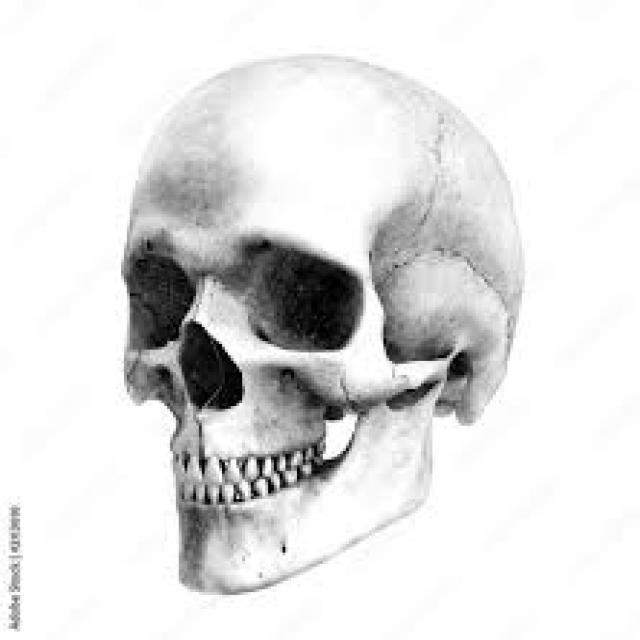skull: (111, 35, 553, 605)
